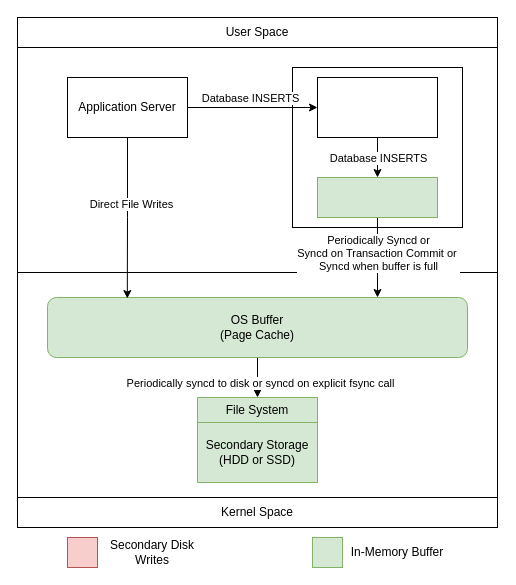
Some shapes in this 516 by 585 pixel diagram are drawn without their labels. Each missing label, with the box of its shape:
Database Buffer Pages: (316, 176, 438, 218)
DB Engine: (316, 76, 438, 138)
